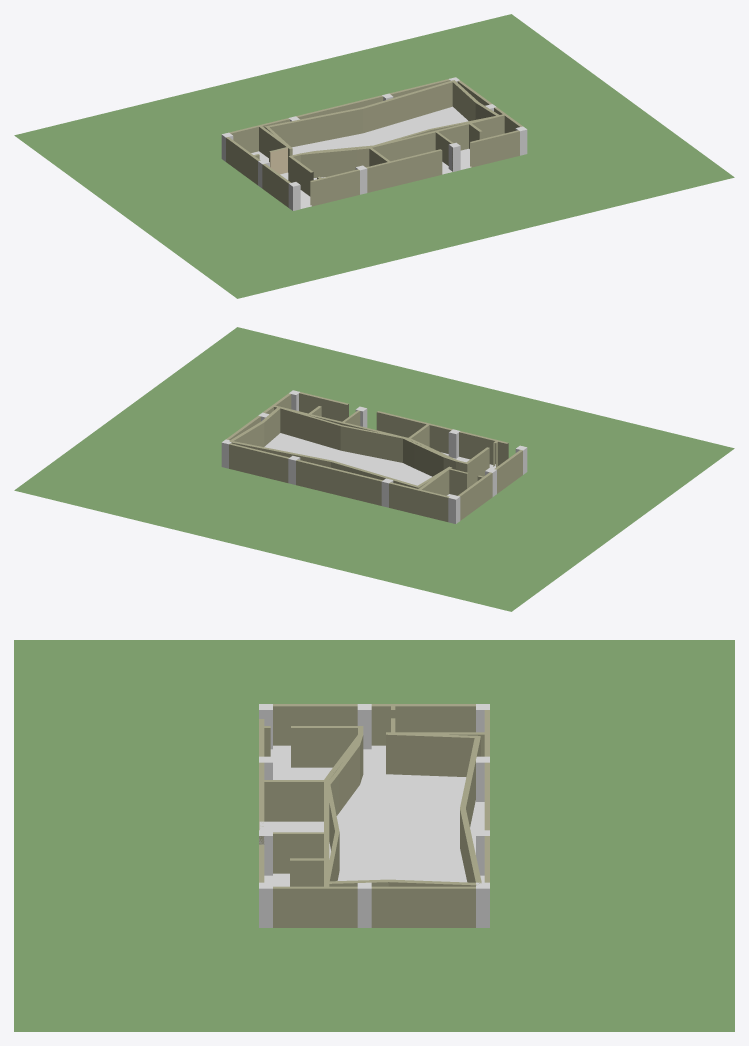
The model's file is lab.glb.
3 views of the same model, one above another, from view 1: azimuth 30°, elevation 25°; view 2: azimuth 150°, elevation 25°; view 3: azimuth 270°, elevation 25° (orthographic). The views are drawn at different scales.
Visible parts, largest first — view 1: Lawn, Cube.007, Cube.009; view 2: Lawn, Cube.007, Cube.009; view 3: Lawn, Cube.007, Cube.009.
Part boxes in pixels (<box>): Lawn: <box>14,14,734,298</box>; Cube.007: <box>226,79,522,207</box>; Cube.009: <box>221,77,527,210</box>; Lawn: <box>14,327,734,611</box>; Cube.007: <box>226,392,522,521</box>; Cube.009: <box>221,390,527,523</box>; Lawn: <box>14,640,734,1031</box>; Cube.007: <box>259,704,489,927</box>; Cube.009: <box>259,704,489,927</box>.
Bounding box in the file's own units: 68.07 × 3.21 × 52.95.
